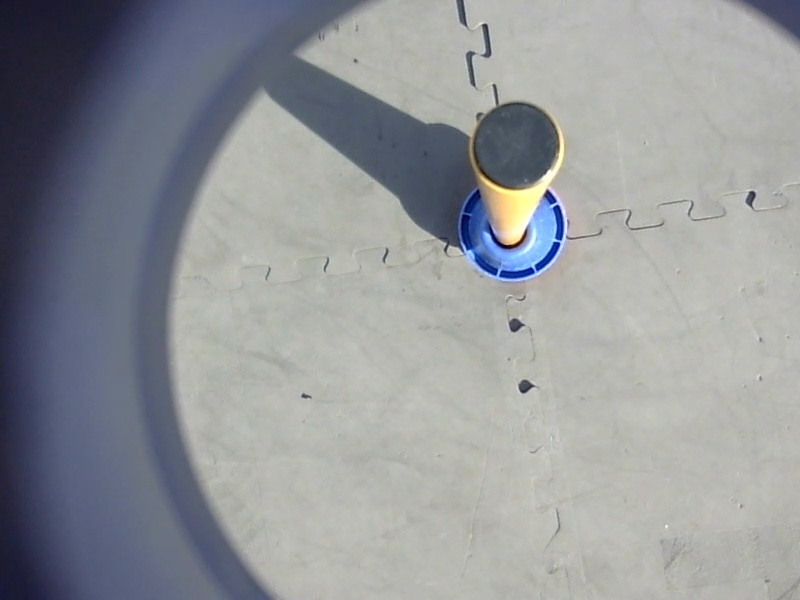tip: (463, 96, 573, 201)
